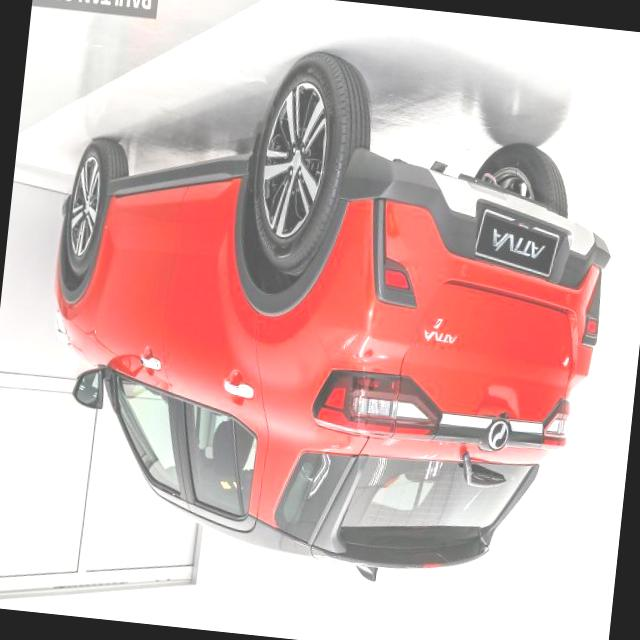PeroduaAtiva: (25, 26, 630, 603)
